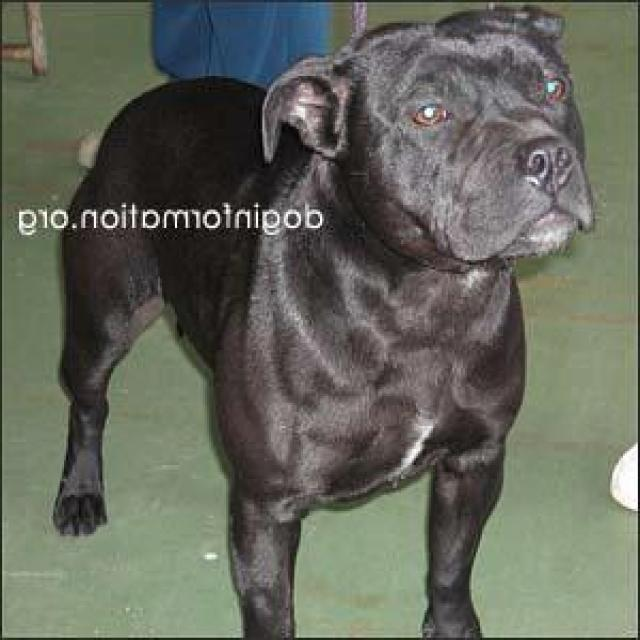staffordshire_bullterrier: (54, 0, 604, 638)
